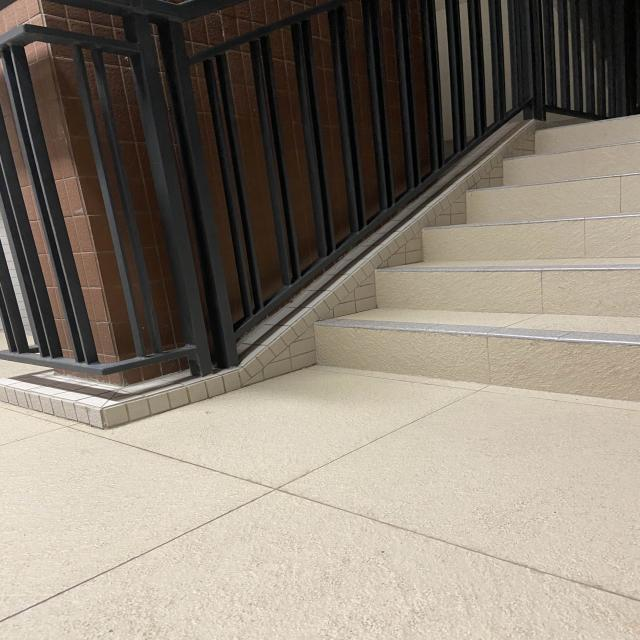Stairs: (305, 106, 640, 402)
